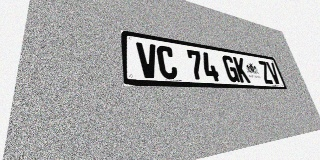4: (200, 52, 220, 81)
7: (185, 49, 207, 81)
C: (156, 45, 179, 79)
G: (221, 55, 240, 82)
K: (233, 56, 251, 83)
V: (136, 42, 160, 79), (266, 62, 282, 84)
Z: (257, 60, 274, 84)
